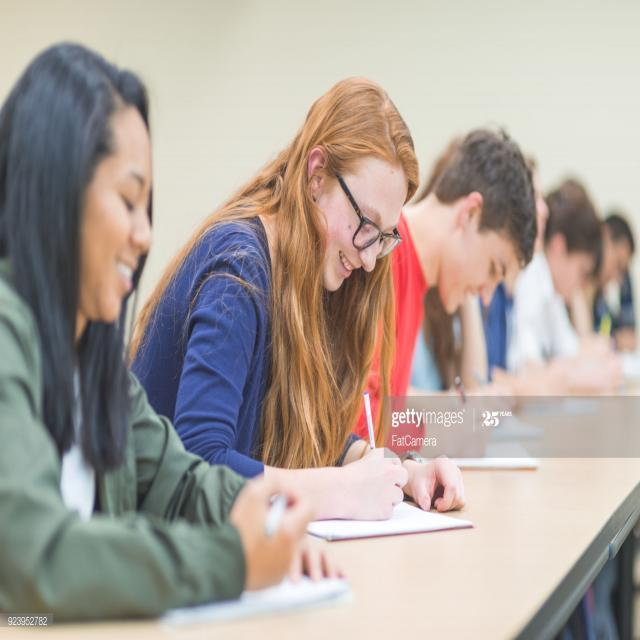good: (194, 73, 440, 558)
